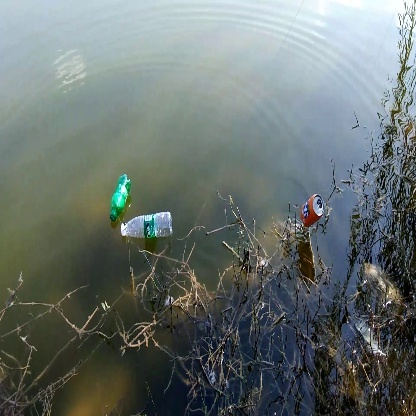bottle: (296, 191, 337, 237), (118, 212, 179, 239)
